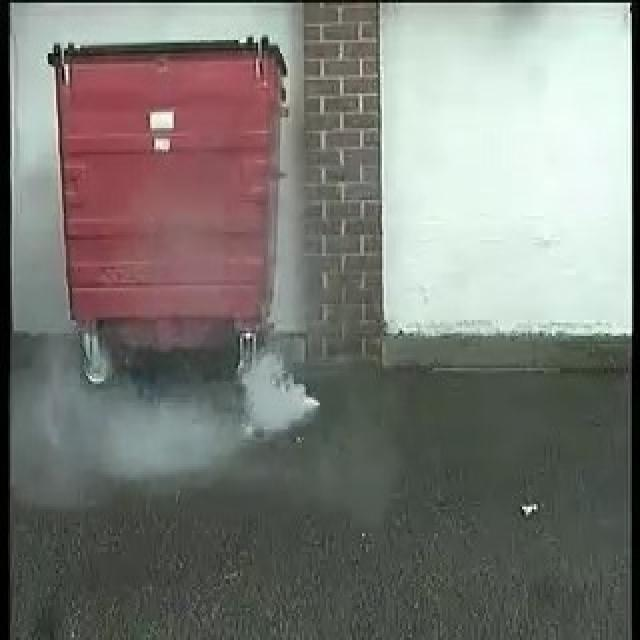Smoke: (120, 331, 324, 469)
